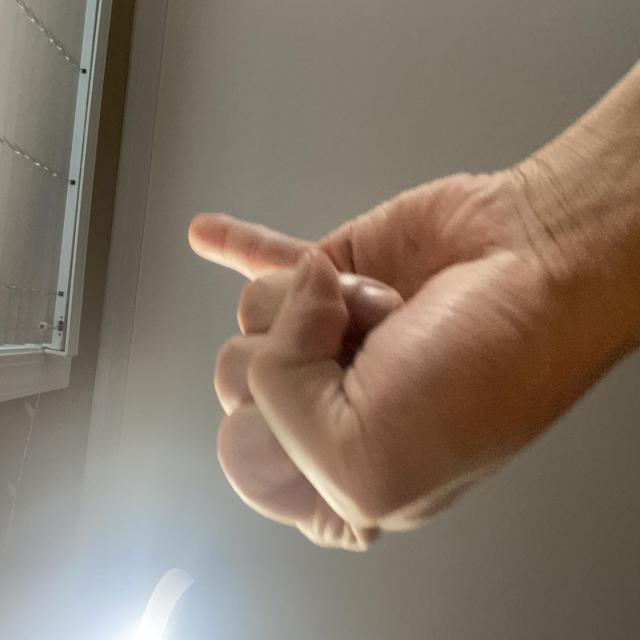I: (61, 242, 382, 640)
